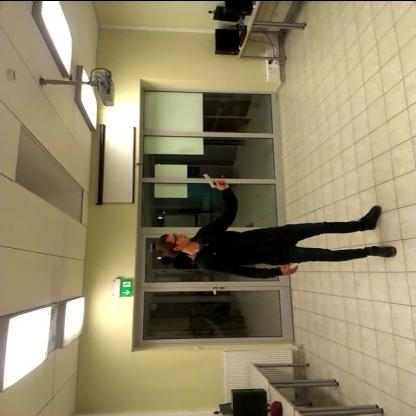Pistol: (196, 166, 231, 196)
